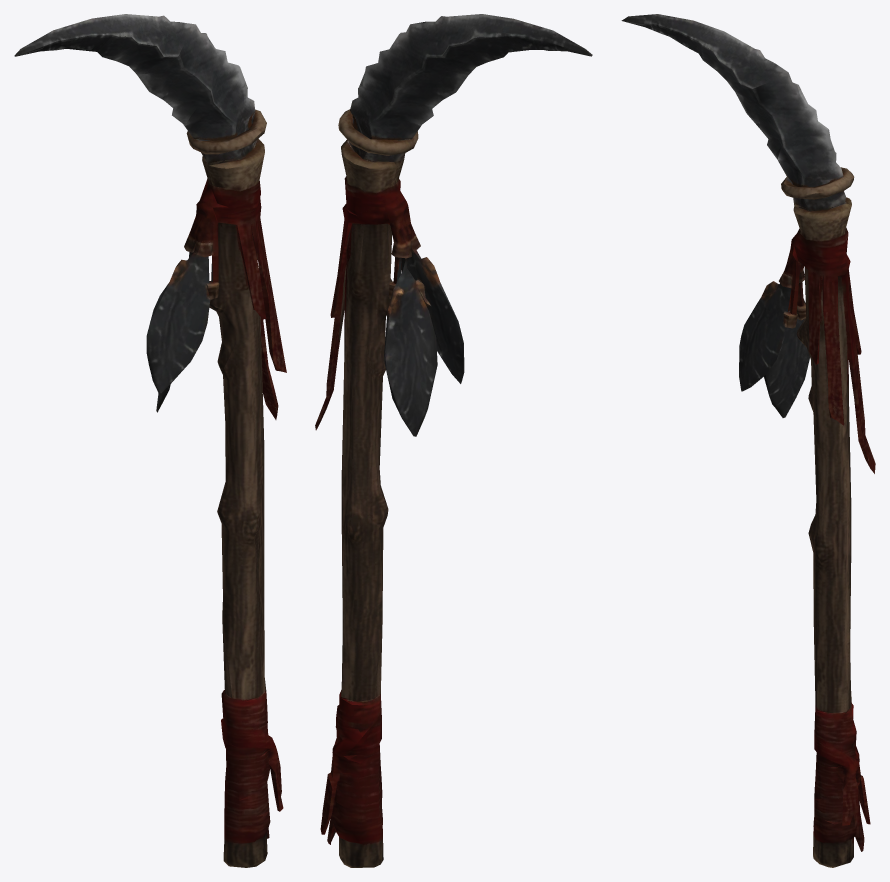
3 views of the same model, side by side, from view 1: azimuth 30°, elevation 25°; view 2: azimuth 150°, elevation 25°; view 3: azimuth 330°, elevation 25° (orthographic). The views are drawn at different scales.
Parts seen in each view (by area): view 1: crow-prelate-glaive; view 2: crow-prelate-glaive; view 3: crow-prelate-glaive.
Part boxes in pixels (<box>): crow-prelate-glaive: <box>14,14,286,867</box>; crow-prelate-glaive: <box>315,14,592,867</box>; crow-prelate-glaive: <box>621,14,875,867</box>.
Bounding box in the file's own units: 0.637 × 2 × 0.1866.
1 material, 1 textured.
